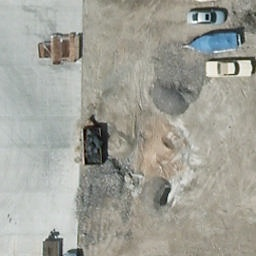boat: (183, 31, 243, 59)
car: (205, 59, 255, 79), (187, 9, 228, 25)
